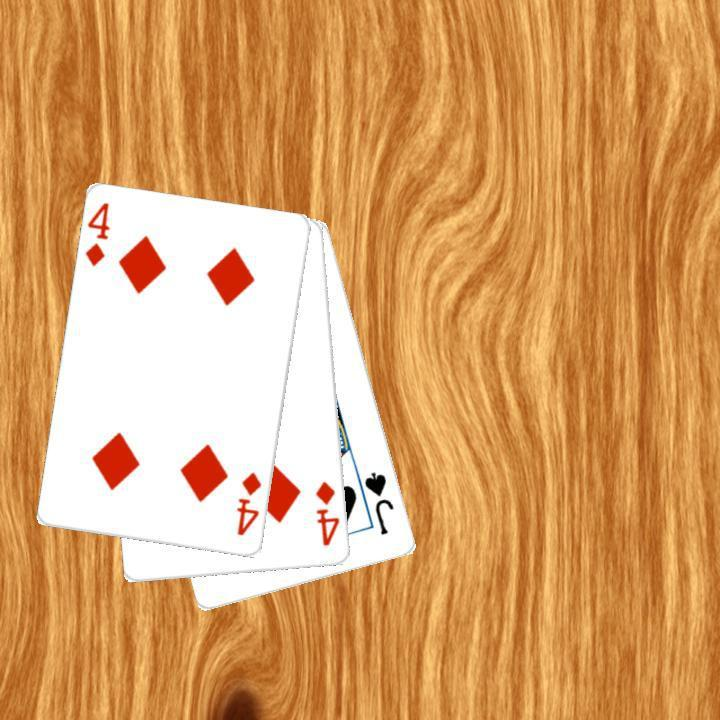4: (233, 468, 264, 539), (81, 199, 112, 269), (312, 477, 342, 549)
J: (360, 468, 397, 537)
